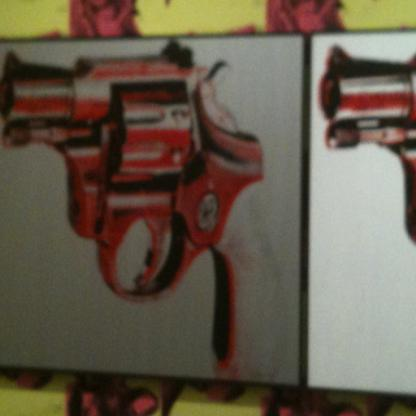gun: (0, 37, 262, 370), (319, 27, 415, 412)
